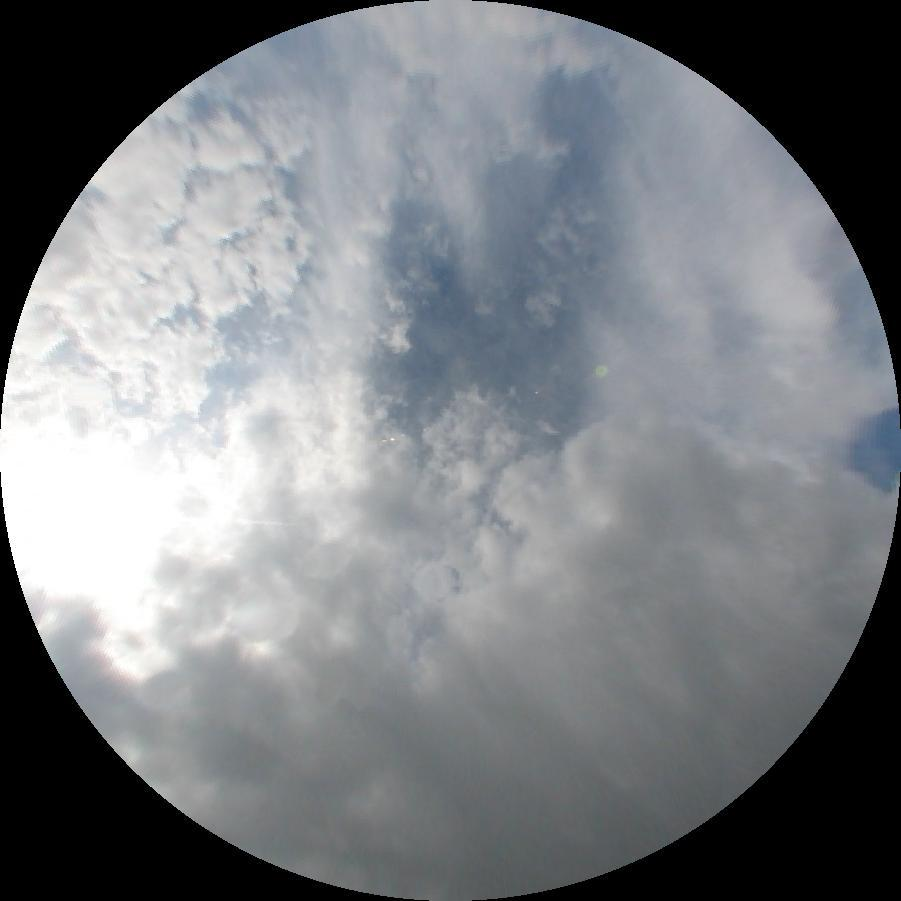parasite: (152, 514, 288, 526)
sun: (2, 452, 154, 589)
